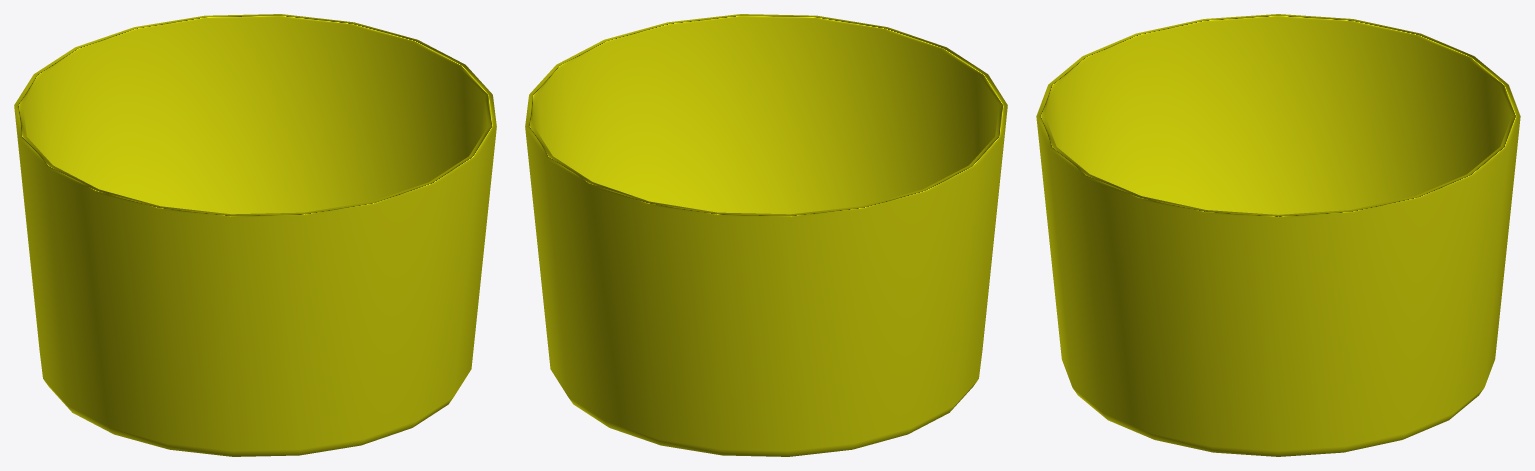
Rendered from Cooking_Tools_02_Lod0.fbx.
3 views of the same model, side by side, from view 1: azimuth 30°, elevation 25°; view 2: azimuth 150°, elevation 25°; view 3: azimuth 270°, elevation 25° (orthographic).
Visible parts, largest first — view 1: Cooking_Tools_02_Lod0; view 2: Cooking_Tools_02_Lod0; view 3: Cooking_Tools_02_Lod0.
Boxes of the visible parts, x1,y1,x2,y2 form: Cooking_Tools_02_Lod0: (14,14,496,456); Cooking_Tools_02_Lod0: (525,14,1007,456); Cooking_Tools_02_Lod0: (1036,14,1520,456).
Bounding box in the file's own units: 23.41 × 13.41 × 23.41.
